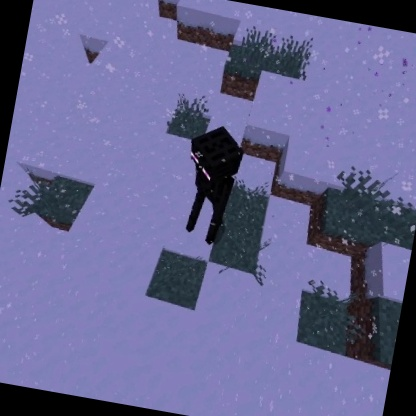enderman: (170, 118, 250, 251)
